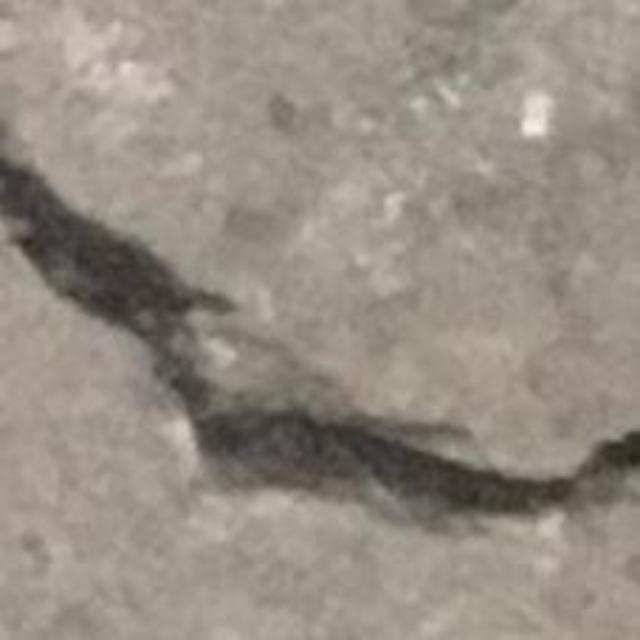crack: (0, 156, 639, 532)
